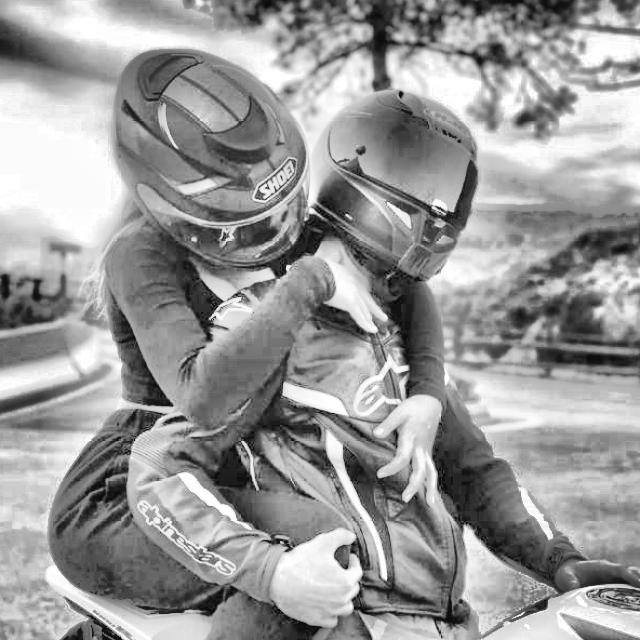Helmet: (107, 41, 312, 274), (310, 81, 485, 293)
